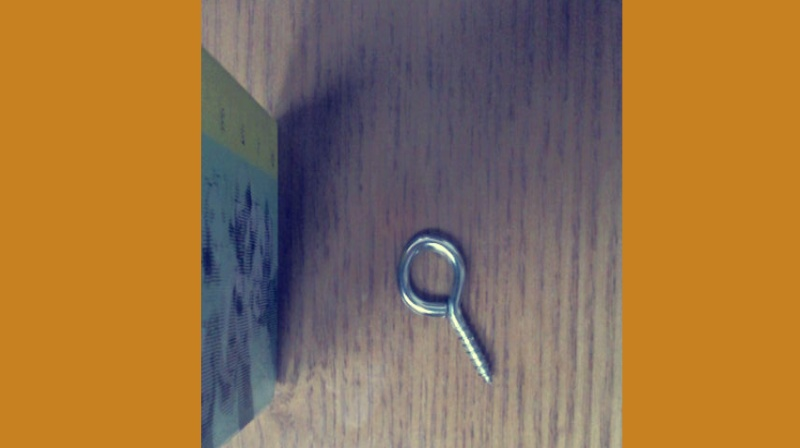O001: (395, 226, 497, 386)
